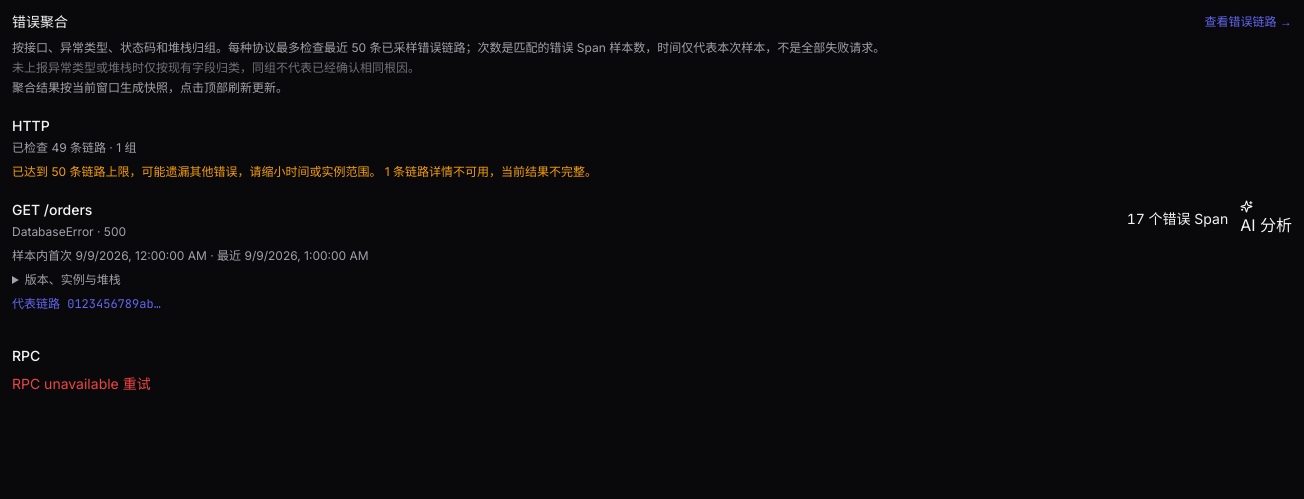
Test case: Error aggregation › preserves scope and displays bounded counts, evidence and partial failures
Expected: the text "17 个错误 Span" is shown, 1127,208 -> 1228,228
Expected: the message "RPC unavailable 重试" is shown, 12,374 -> 151,394
Click the heading "版本、实例与堆栈": (66, 280) 12,272 -> 121,288
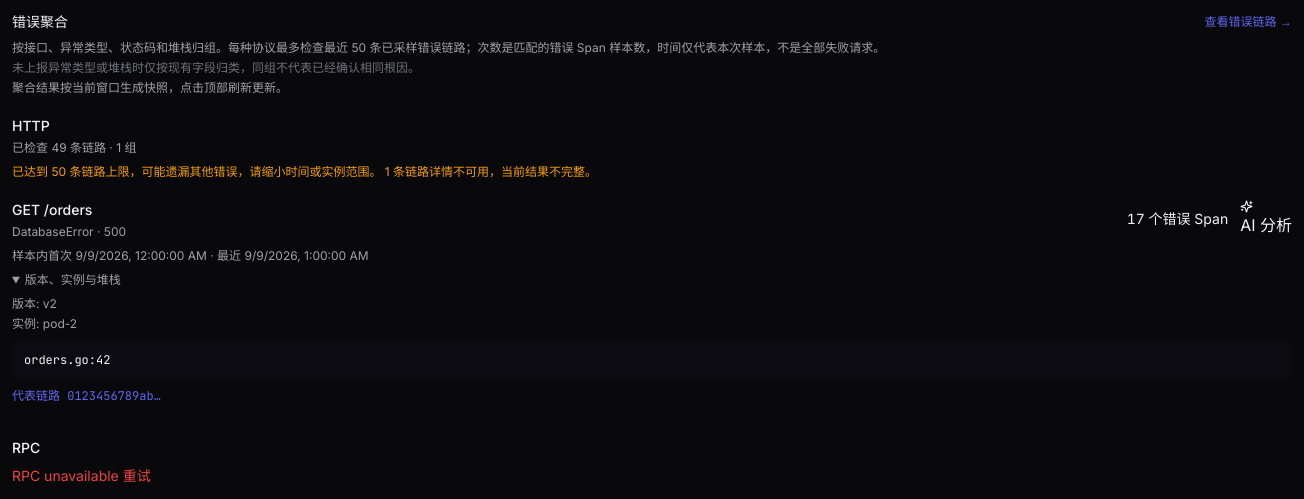
Expected: the button "AI 分析" is enabled, 1240,200 -> 1292,237
Now the text "orders.go:42" is shown, box 12,340 -> 1292,380
Now the text "实例: pod-2" is shown, box 12,316 -> 77,331
